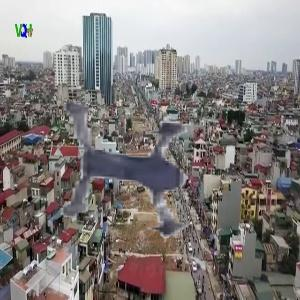drone: (32, 69, 234, 271)
